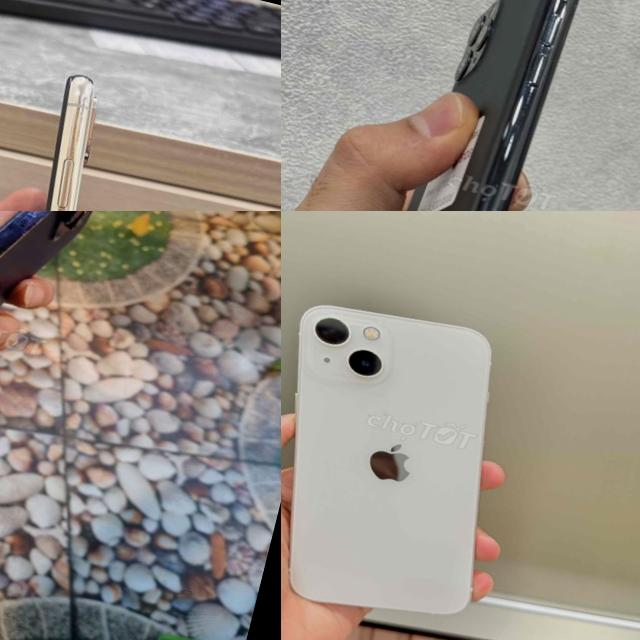gen_11: (321, 0, 601, 211)
gen_12_13: (281, 282, 539, 640)
gen_14: (0, 211, 92, 307)
gen_x_xs: (45, 74, 95, 211)
scratch: (487, 68, 549, 172), (534, 0, 596, 57), (11, 211, 97, 241)
